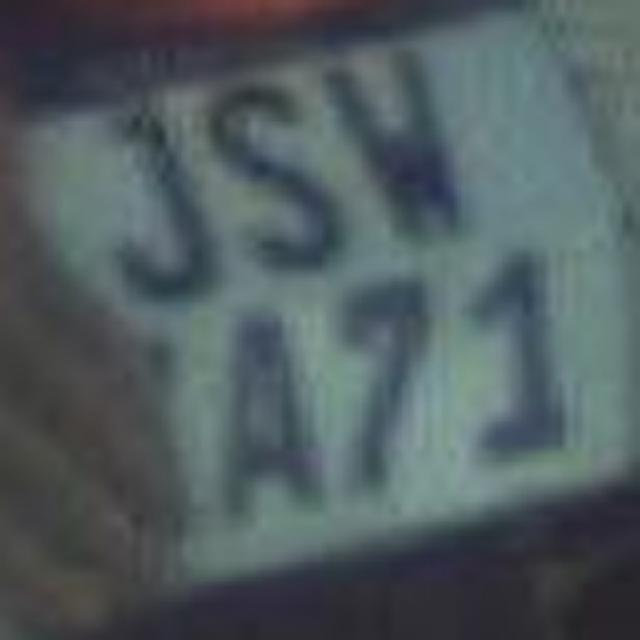1: (448, 220, 580, 460)
7: (312, 252, 448, 508)
A: (192, 280, 340, 540)
J: (85, 89, 220, 316)
S: (188, 68, 352, 280)
W: (320, 56, 480, 244)
